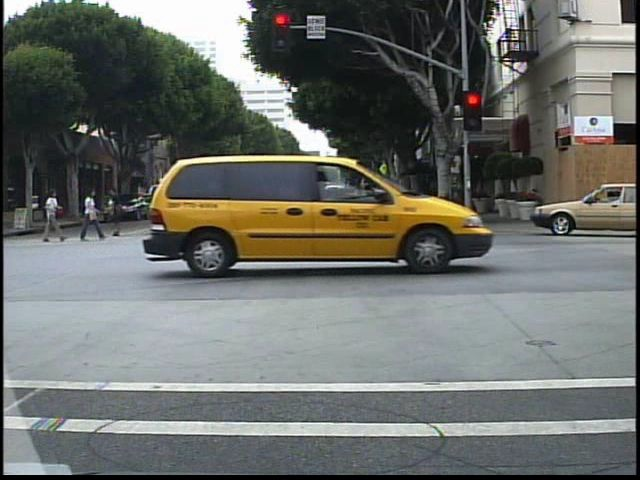person: (288, 169, 315, 237), (74, 186, 105, 244), (153, 172, 179, 240), (36, 189, 64, 247), (221, 180, 247, 238), (106, 185, 130, 240), (179, 184, 202, 238)
